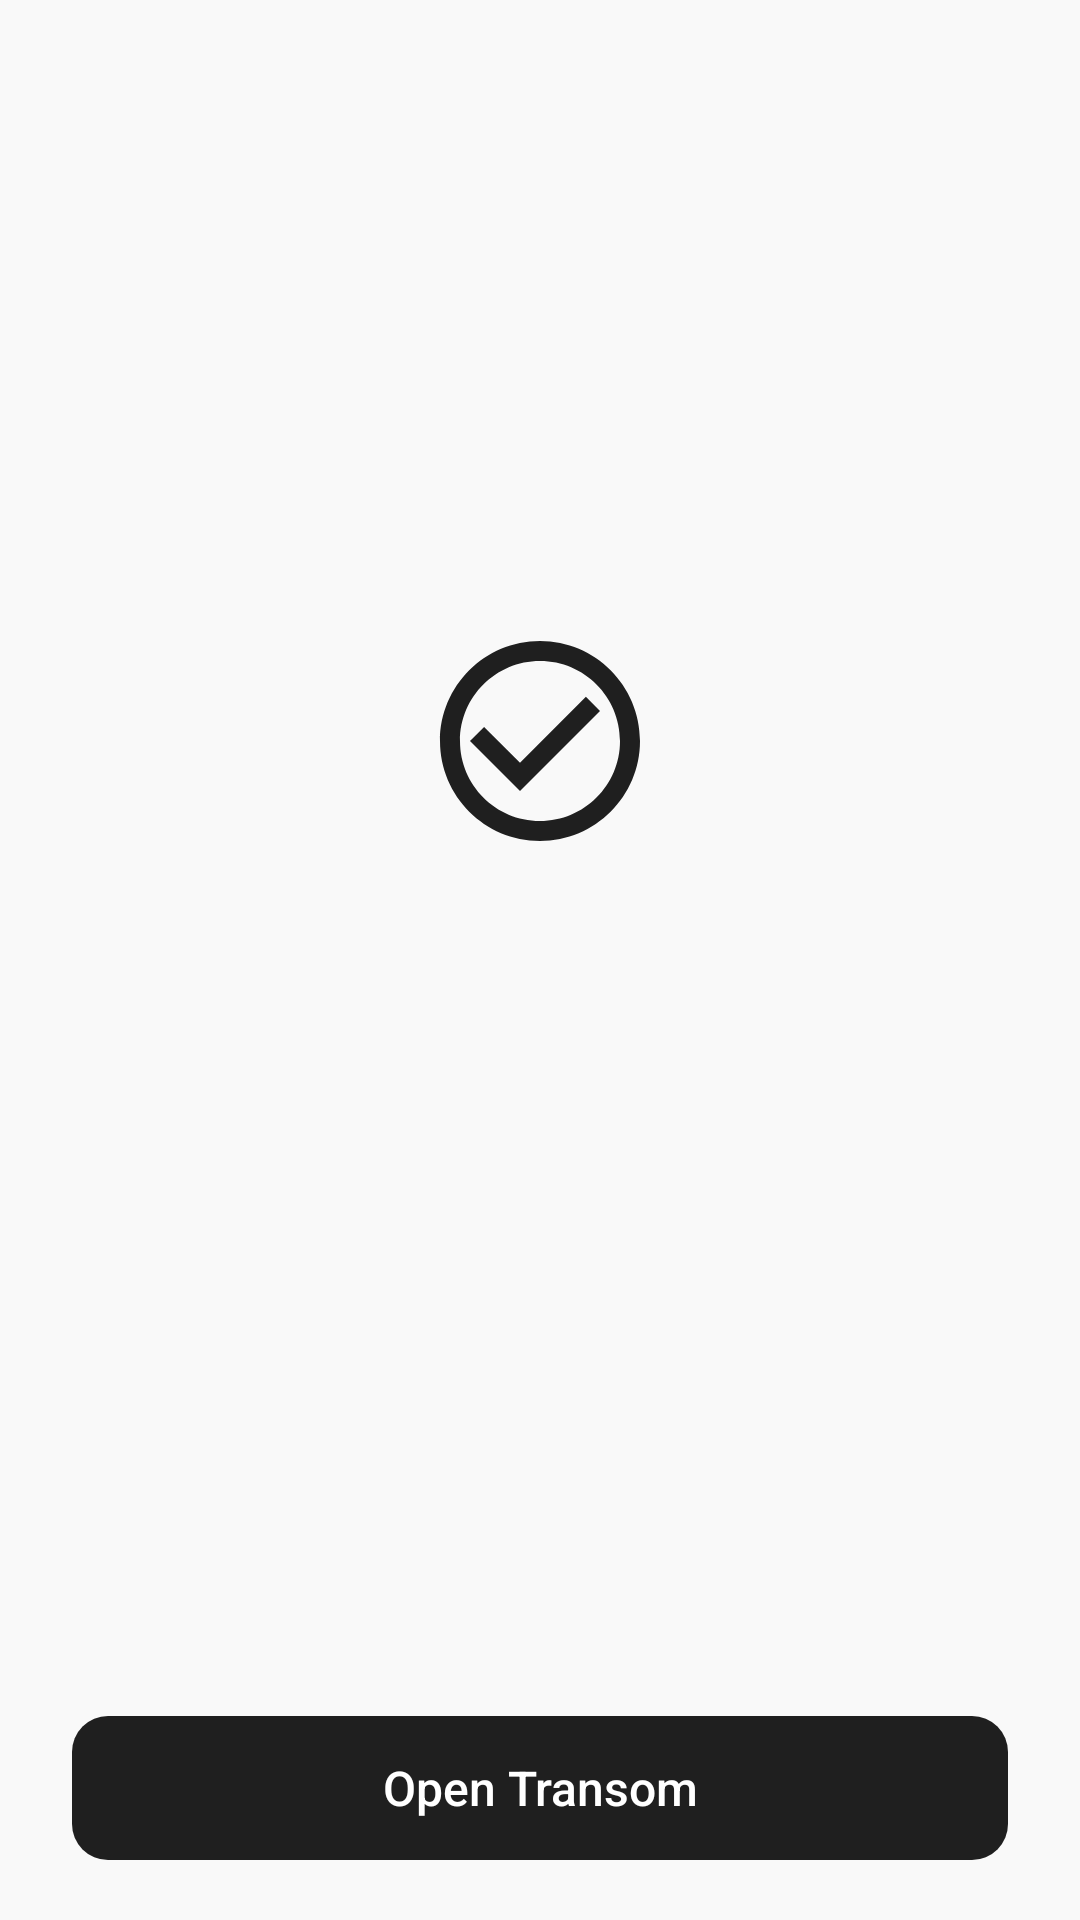

Named icons in this screenshot (1080*1920) and their centers, (x=x, y=y):
check circle: (x=540, y=741)
